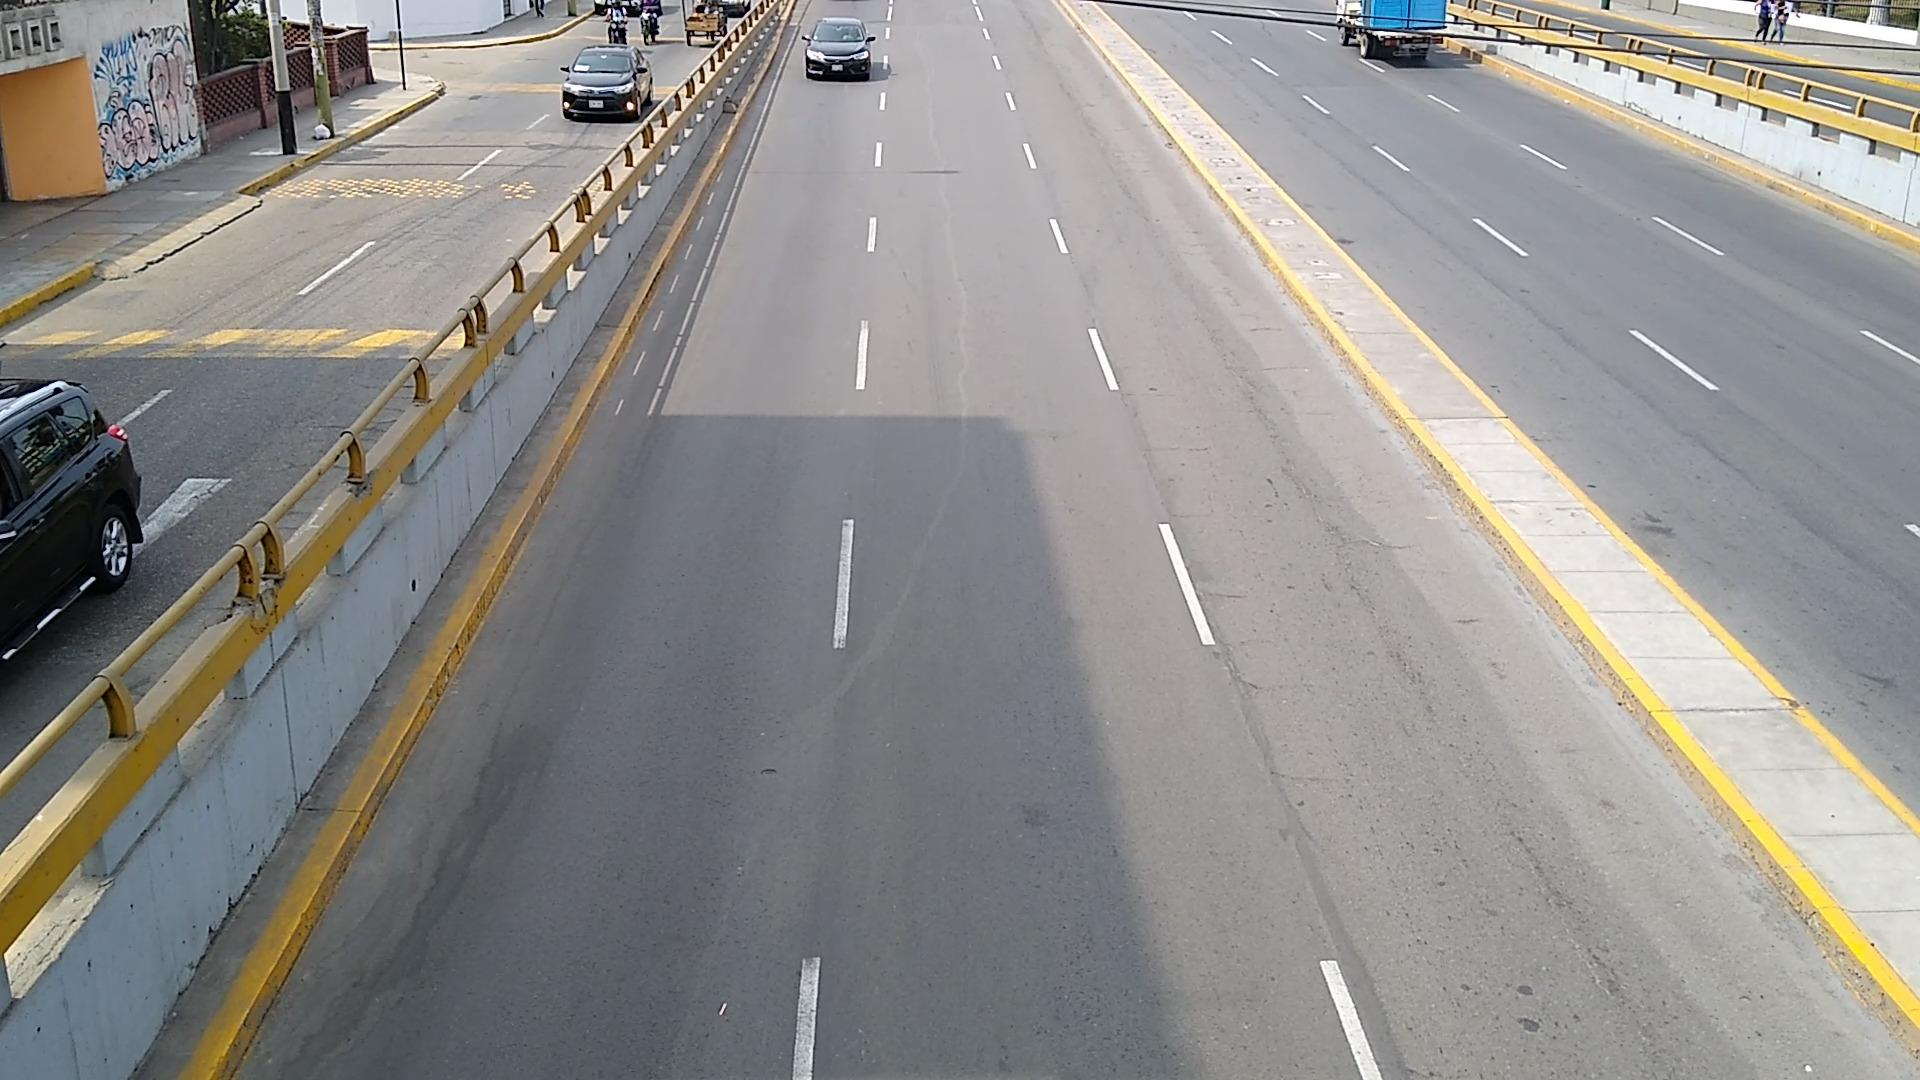car: (0, 379, 142, 654), (562, 45, 652, 120), (802, 15, 874, 79)
